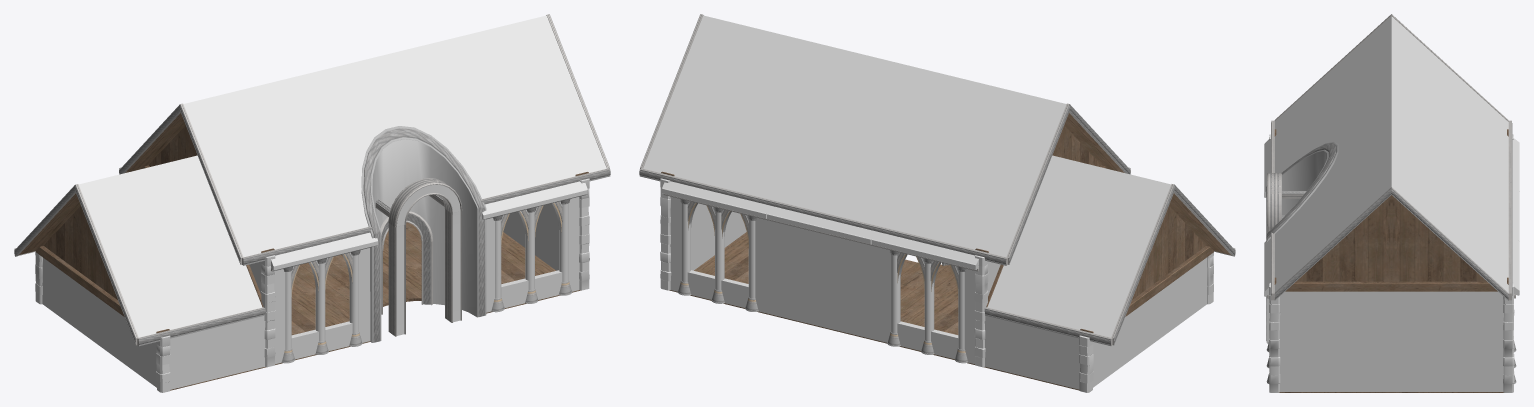
File: Elven_Small_House_1A1.fbx
The picture shows the model from 3 angles, left to right: view 1: azimuth 30°, elevation 25°; view 2: azimuth 150°, elevation 25°; view 3: azimuth 270°, elevation 25°; orthographic projection. The views are drawn at different scales.
Parts seen in each view (by area): view 1: Elven_Small_House_1A1; view 2: Elven_Small_House_1A1; view 3: Elven_Small_House_1A1.
Boxes of the visible parts, left/top/right/bottom form: Elven_Small_House_1A1: left=14, top=14, right=610, bottom=392; Elven_Small_House_1A1: left=639, top=14, right=1235, bottom=392; Elven_Small_House_1A1: left=1264, top=14, right=1519, bottom=392.
Size of what is drawn, in the model's own units: 1813 by 821 by 874.
